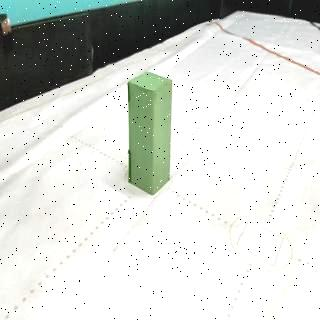greenbox: (128, 73, 174, 194)
